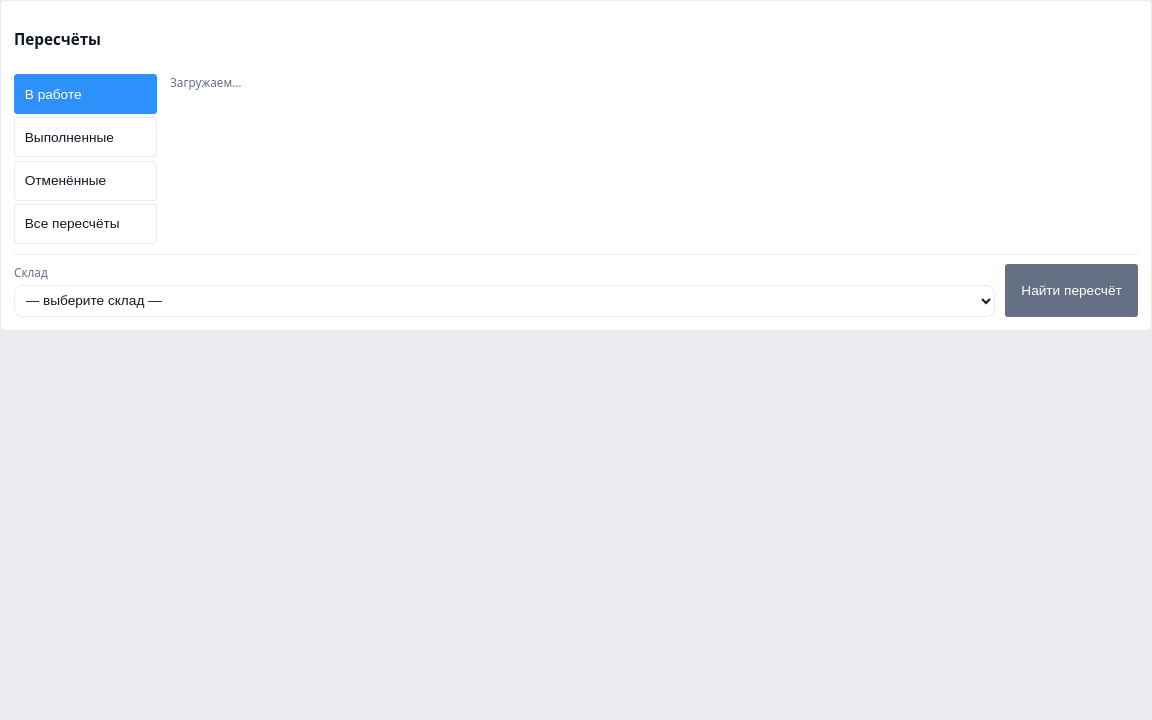
Test: отмена пересчёта › спрашивает вторым нажатием и не трогает склад
Select "Ткацкая" in the dropdown labelled "Склад" at (505, 301), box top-left (14, 285), bottom-right (995, 317)
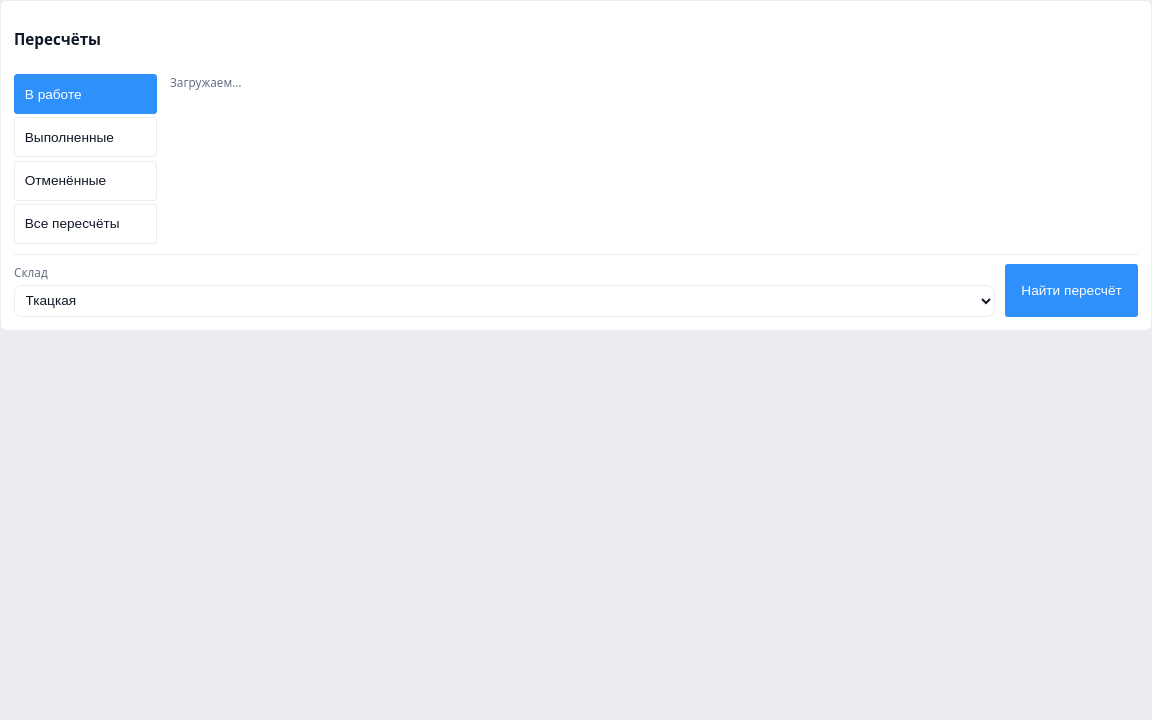
Click the button "Найти пересчёт".
click(1072, 291)  # box top-left (1005, 264), bottom-right (1138, 317)
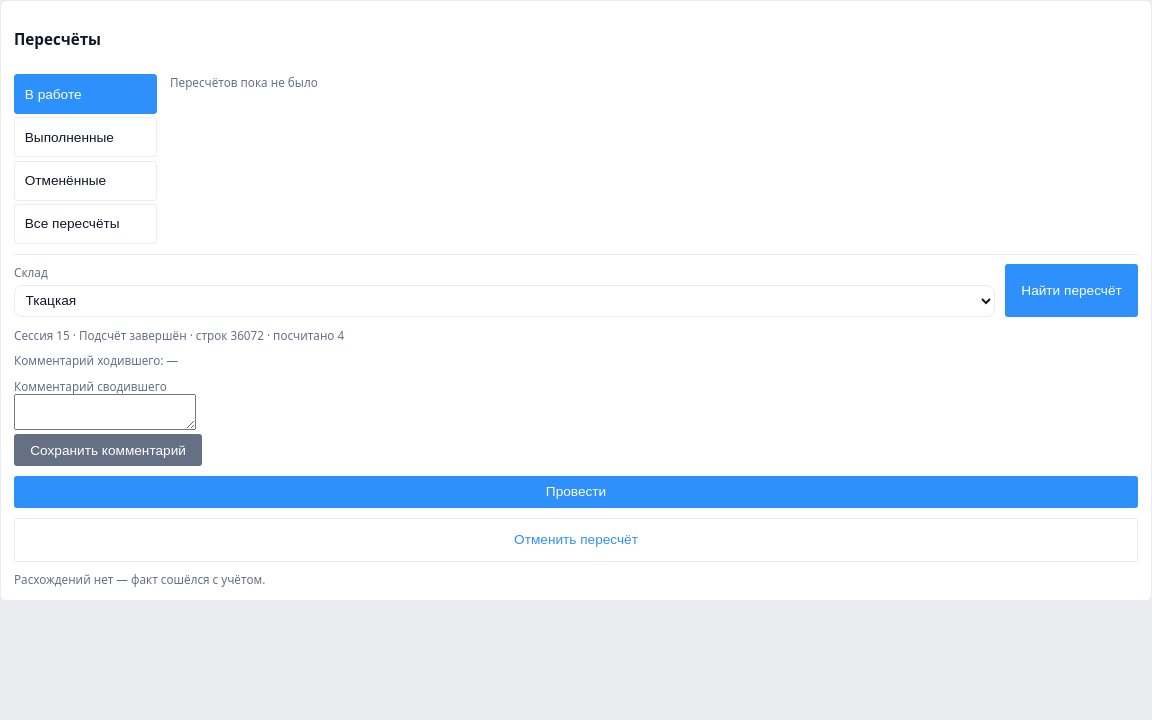
Note: Первое нажатие только спрашивает: пропадёт работа смены.
Click the button "Отменить пересчёт".
click(576, 540)  # box top-left (14, 518), bottom-right (1138, 562)
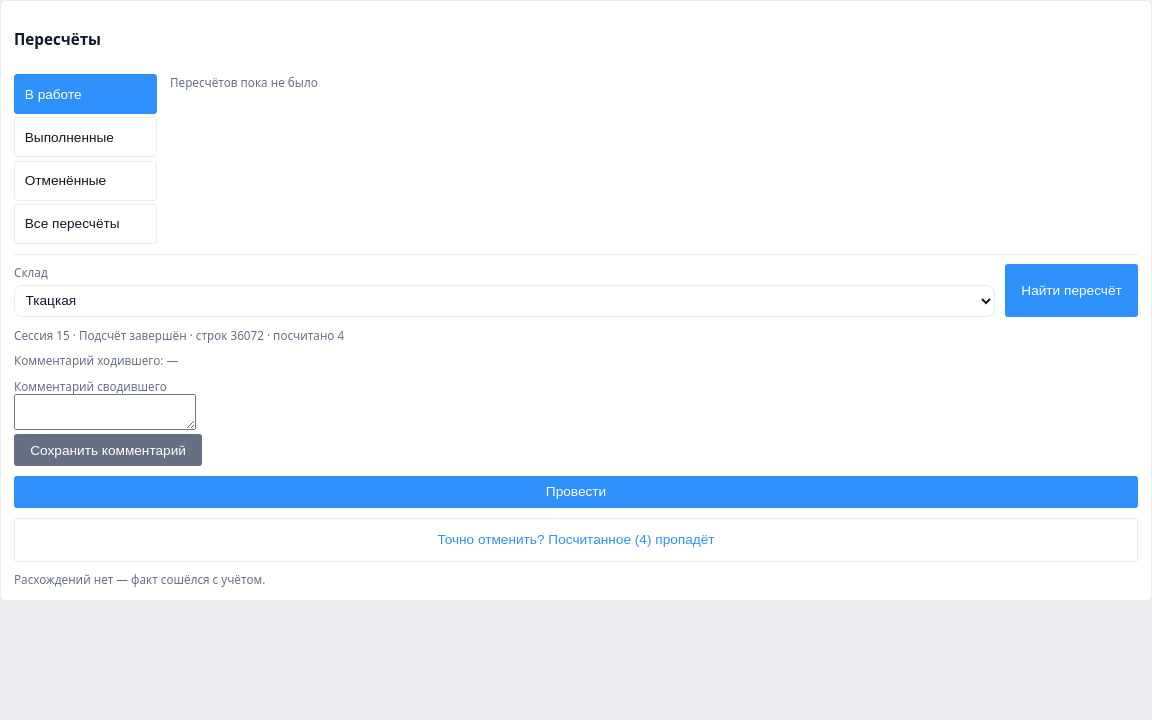
Result: the button "Точно отменить? Посчитанное (4) пропадёт" is shown
Click the button "Точно отменить? Посчитанное (4) пропадёт".
click(576, 540)  # box top-left (14, 518), bottom-right (1138, 562)
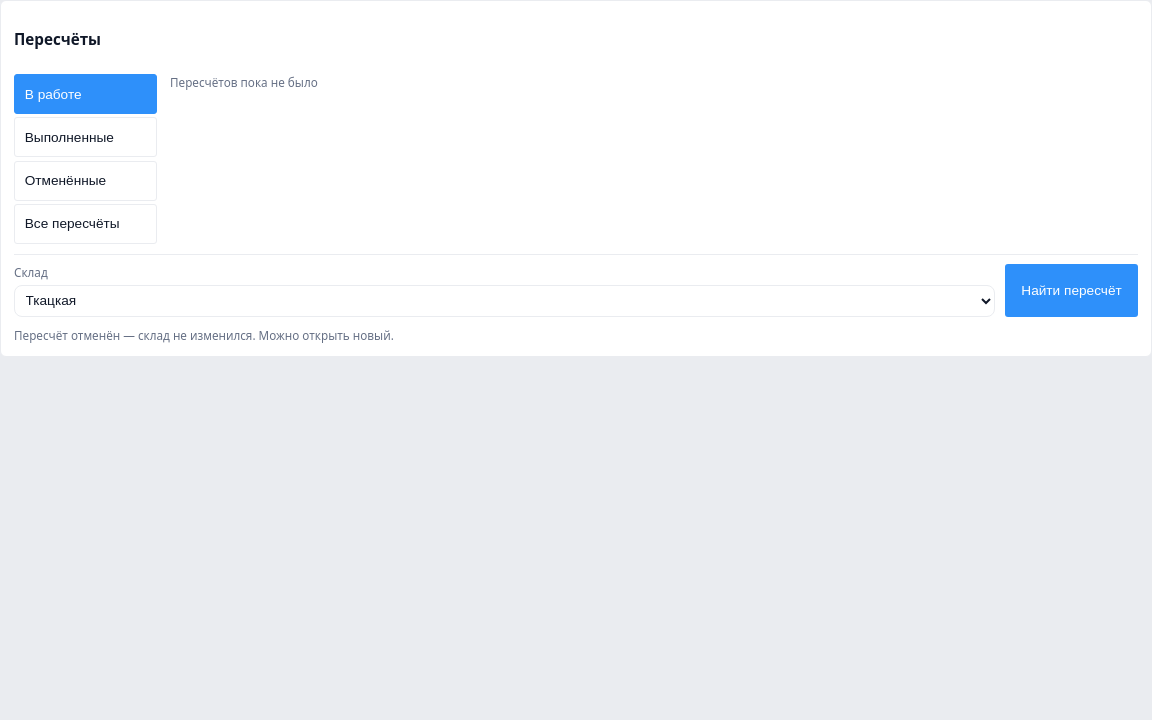
Result: the text "Пересчёт отменён — склад не изменился. Можно открыть новый." is shown at top-left (14, 327), bottom-right (394, 343)
